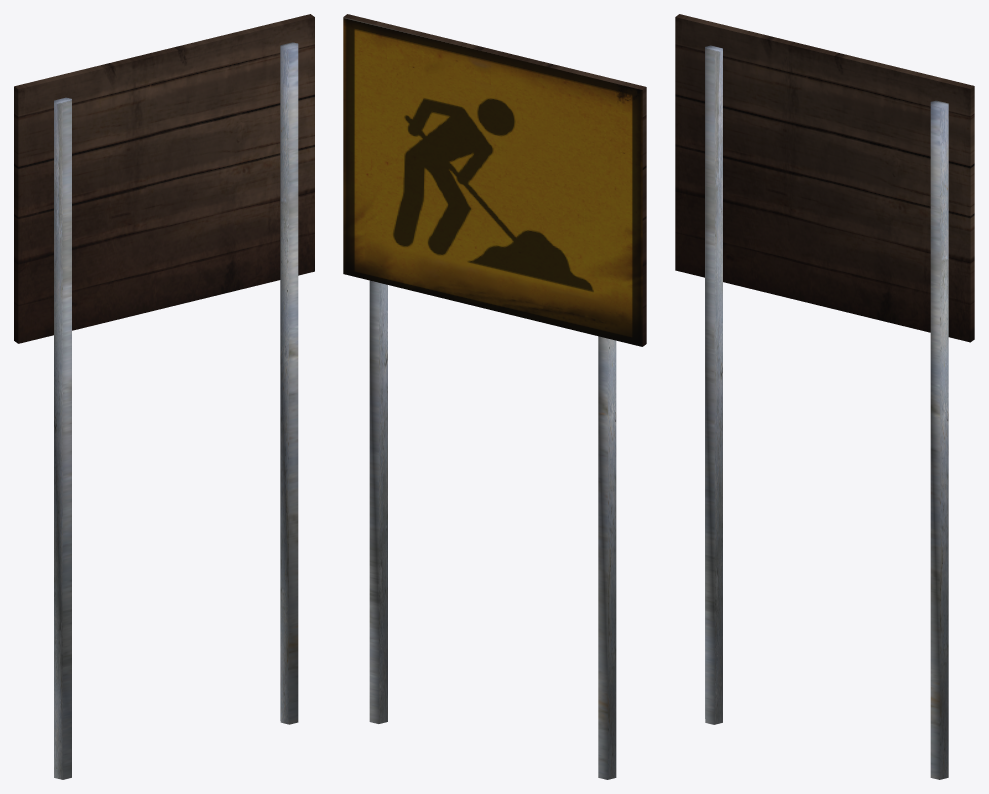
Rendered from boarWok.fbx.
The picture shows the model from 3 angles, left to right: view 1: azimuth 30°, elevation 25°; view 2: azimuth 150°, elevation 25°; view 3: azimuth 330°, elevation 25°; orthographic projection.
Visible parts, largest first — view 1: board.001; view 2: board.001; view 3: board.001.
Part boxes in pixels (bbox=[...]): board.001: bbox=[14, 14, 314, 779]; board.001: bbox=[343, 14, 646, 779]; board.001: bbox=[675, 14, 974, 779].
Size of the model in its own units: 1.51 by 3.39 by 0.1018.
